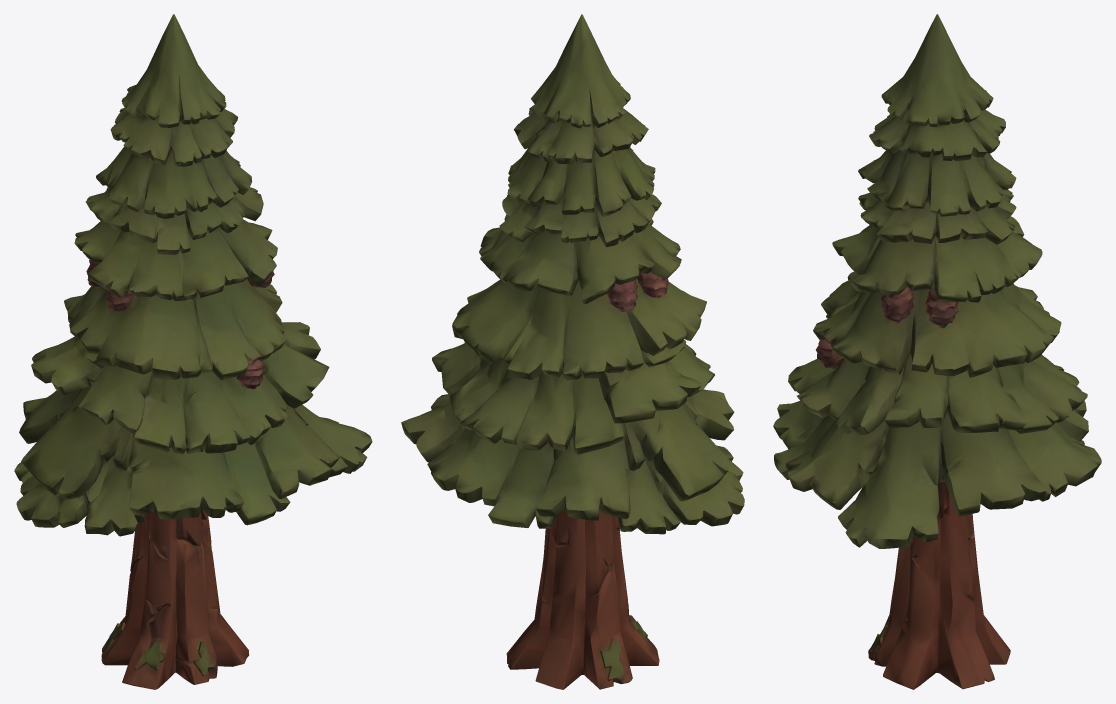
File: plant_tree_sosna_idle.glb
3 renders of one model, left to right at view 1: azimuth 30°, elevation 25°; view 2: azimuth 150°, elevation 25°; view 3: azimuth 270°, elevation 25°, orthographic.
Parts seen in each view (by area): view 1: tripo_node_cd163e05-2579-4156-9f60-c33155292286; view 2: tripo_node_cd163e05-2579-4156-9f60-c33155292286; view 3: tripo_node_cd163e05-2579-4156-9f60-c33155292286.
Boxes of the visible parts, bbox=[...] form: tripo_node_cd163e05-2579-4156-9f60-c33155292286: bbox=[14, 14, 372, 689]; tripo_node_cd163e05-2579-4156-9f60-c33155292286: bbox=[401, 14, 744, 689]; tripo_node_cd163e05-2579-4156-9f60-c33155292286: bbox=[773, 14, 1101, 689].
Size of the model in its own units: 2.34 by 4.5 by 2.08.
1 material, 1 textured.
